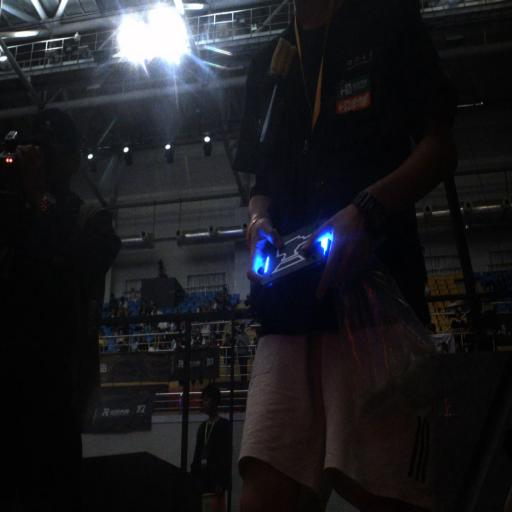target: (259, 224, 332, 282)
